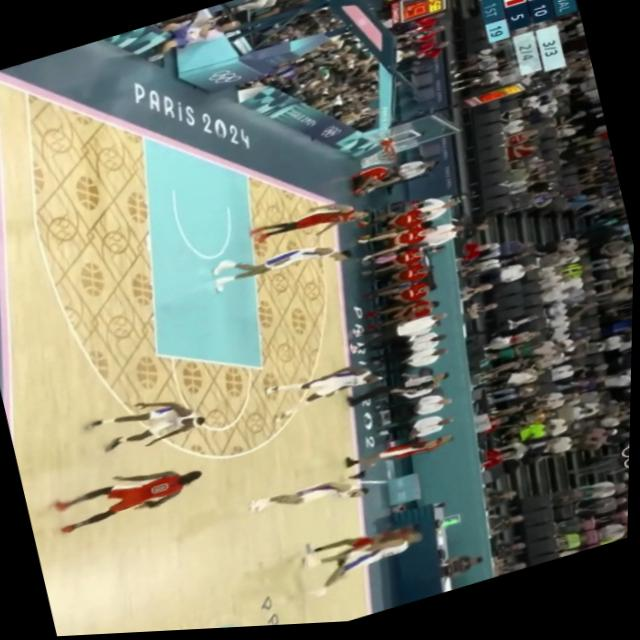ball_handler: (54, 455, 209, 537)
